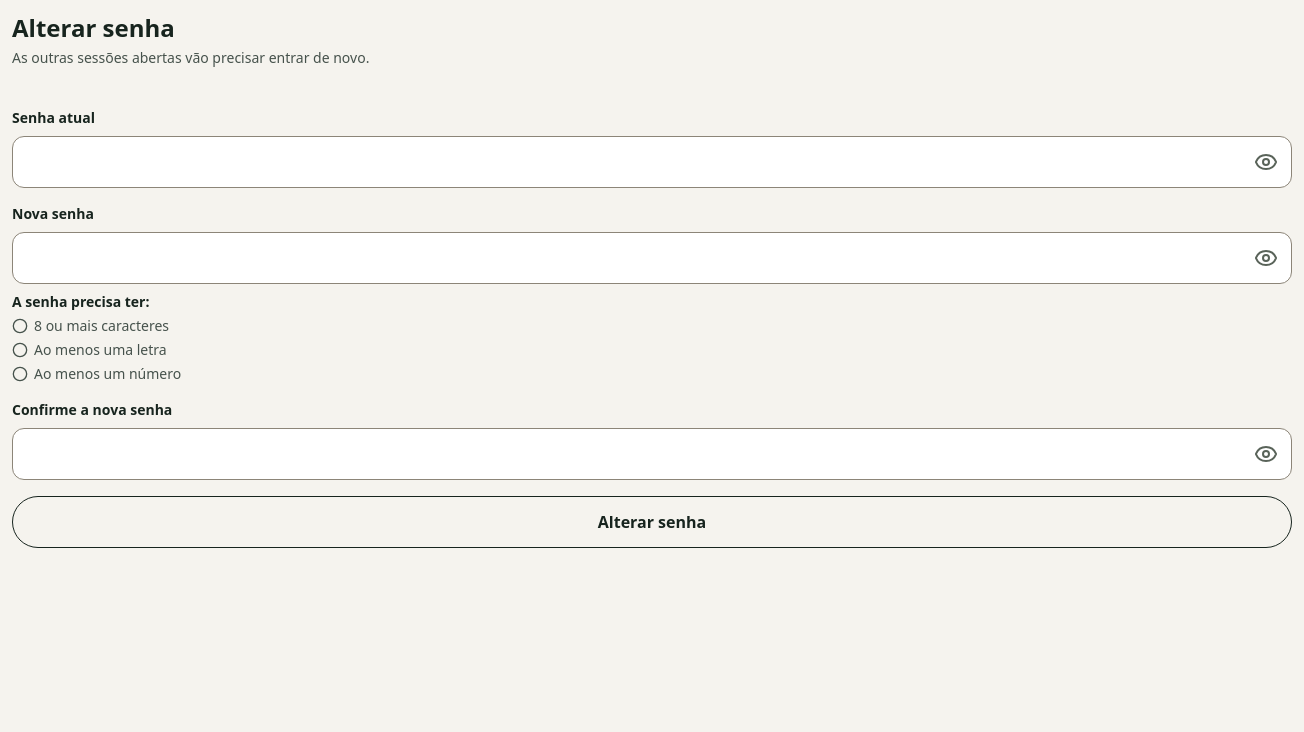
Test: ChangePasswordForm › PROF-05: o sucesso anuncia a troca e limpa os campos
This screenshot has width=1304, height=732.
Type "antiga123" into the password field labelled "Senha atual" at point(652, 162), box [12,136,1292,188]
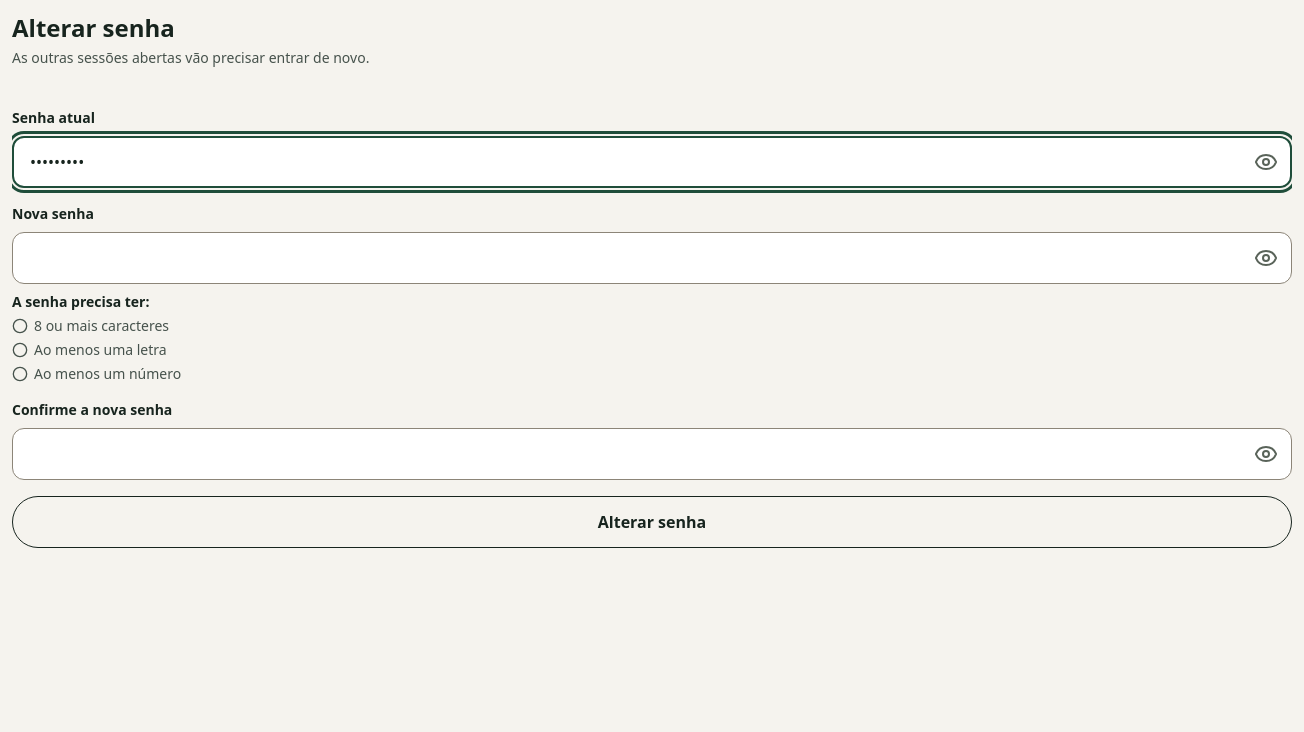
Type "novaSenha99" into the password field labelled "Nova senha" at point(652, 258), box [12,232,1292,284]
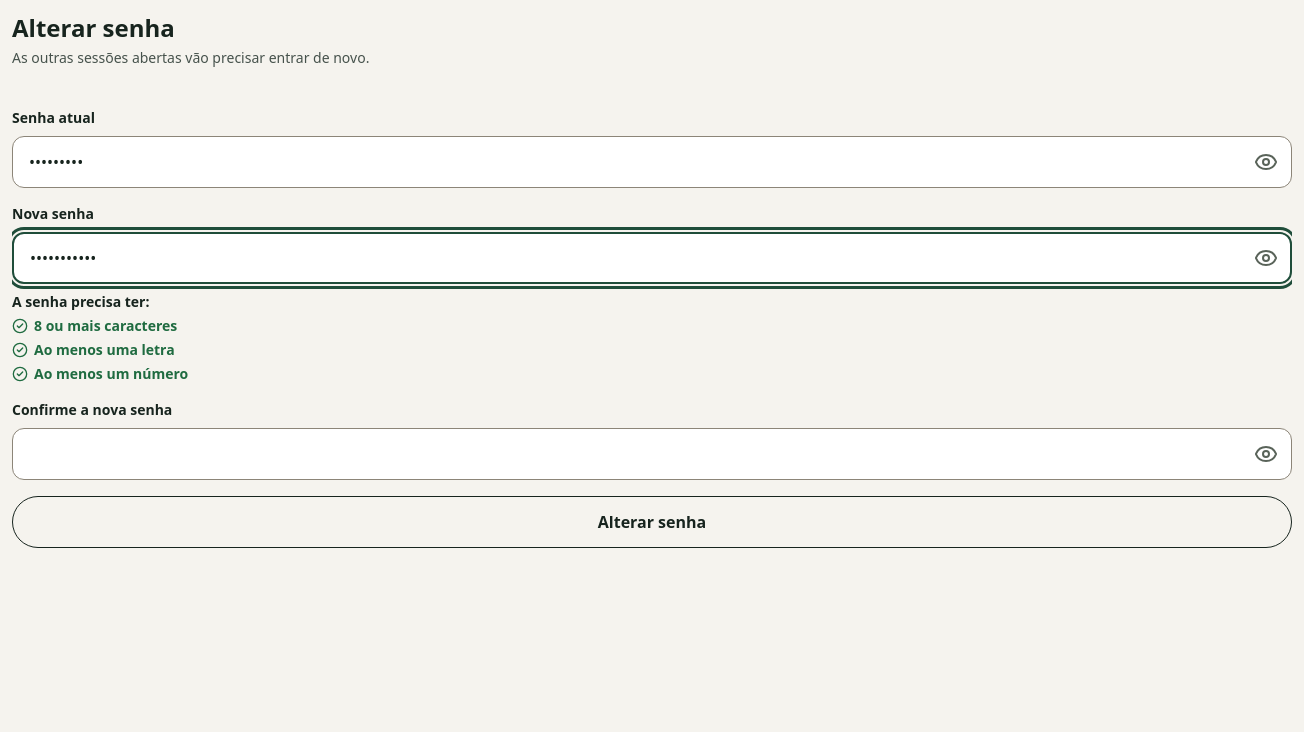
Type "novaSenha99" into the password field labelled "Confirme a nova senha" at point(652, 454), box [12,428,1292,480]
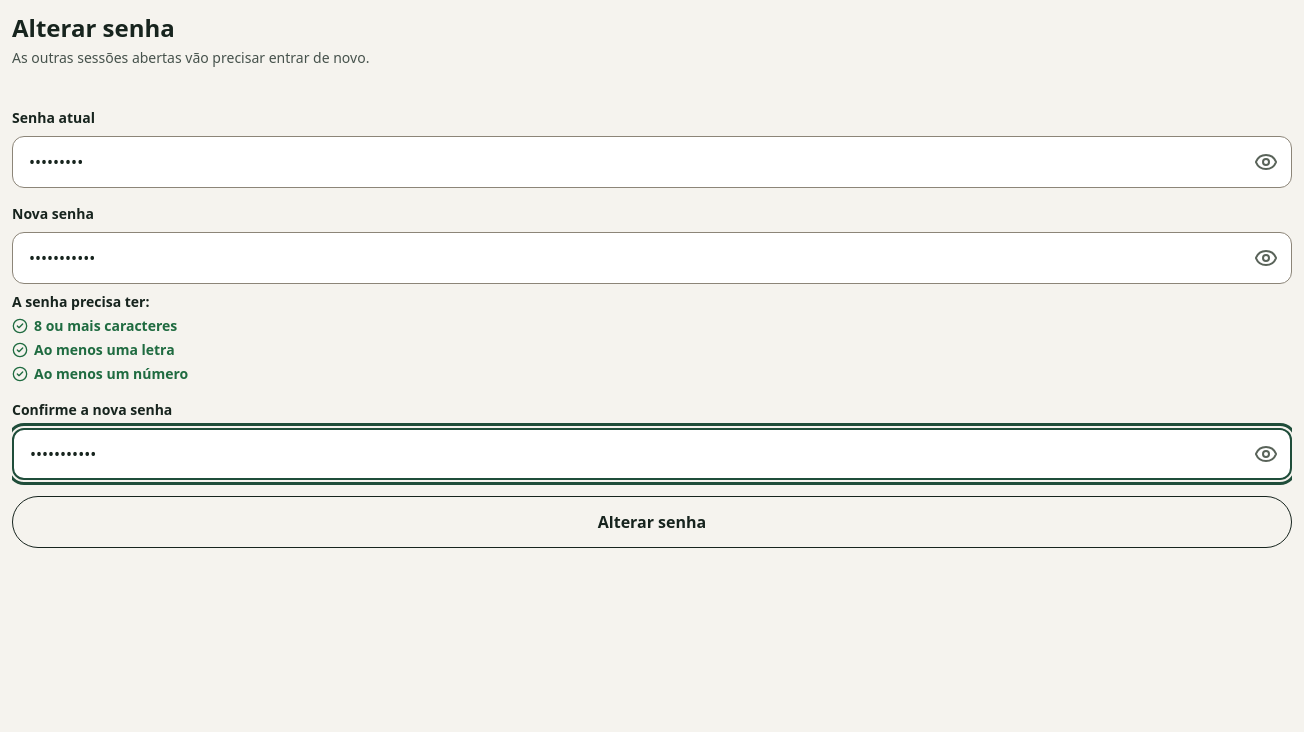
Click the button "Alterar senha" at point(652, 522), box [12,496,1292,548]
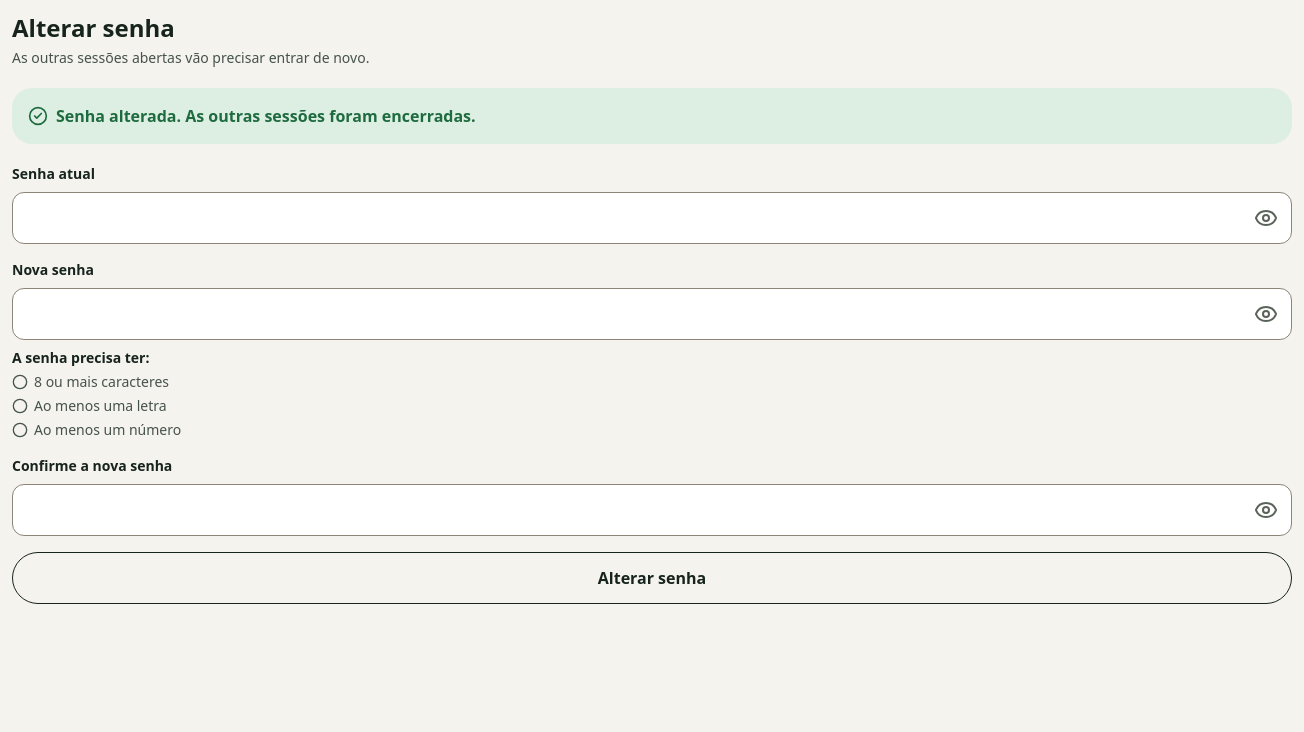
Result: the text "Senha alterada. As outras sessões foram encerradas." is shown at [12,88,1292,144]
Result: the password field labelled "Senha atual" is empty at [12,192,1292,244]
Result: the password field labelled "Nova senha" is empty at [12,288,1292,340]
